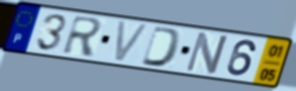3: (36, 13, 68, 52)
6: (225, 39, 257, 78)
D: (139, 24, 184, 69)
N: (183, 30, 231, 76)
R: (60, 14, 106, 58)
V: (112, 19, 152, 64)
